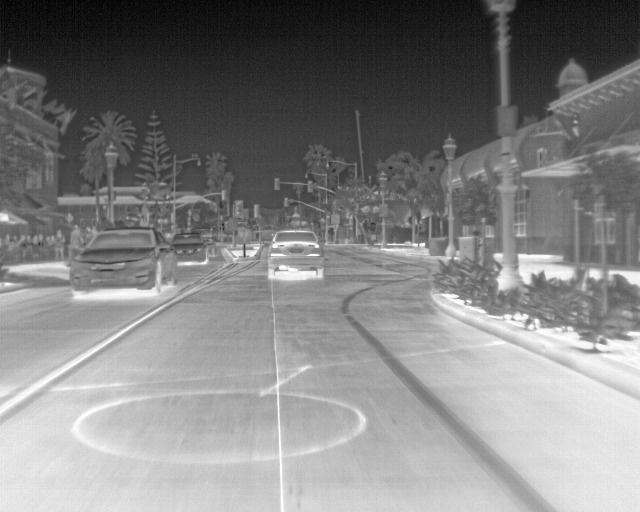bicycle: (68, 226, 175, 292), (268, 226, 323, 275), (171, 229, 207, 266)
empty: (51, 228, 66, 262)
